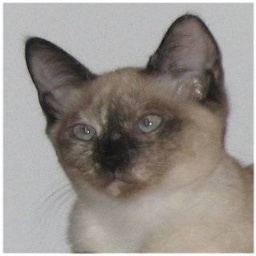cat: (34, 16, 256, 256)
